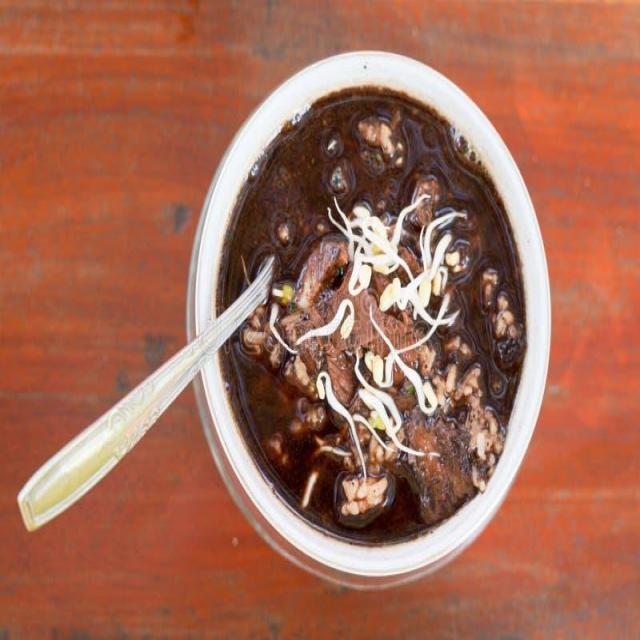Rawon: (231, 92, 508, 530)
